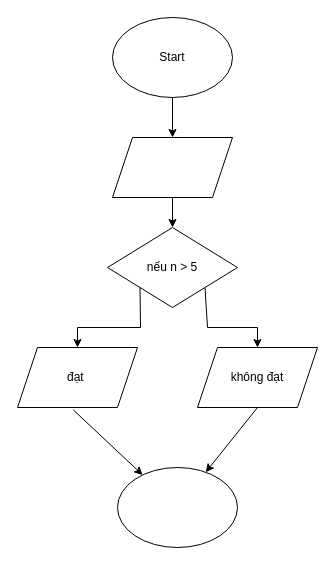
Image size: 335x565. Some labels were removed from this diagram. The centre of each missing label's shape, as x and y in pixels:
kết thúc: pixel 177 507
nhập số điểm (n): pixel 172 167
